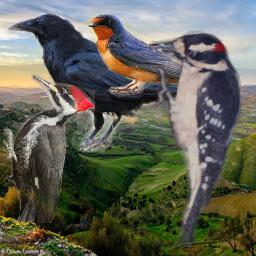Crow: (6, 12, 231, 154)
Swallow: (84, 10, 231, 99)
Woodpecker: (149, 28, 246, 247), (3, 72, 95, 223)
